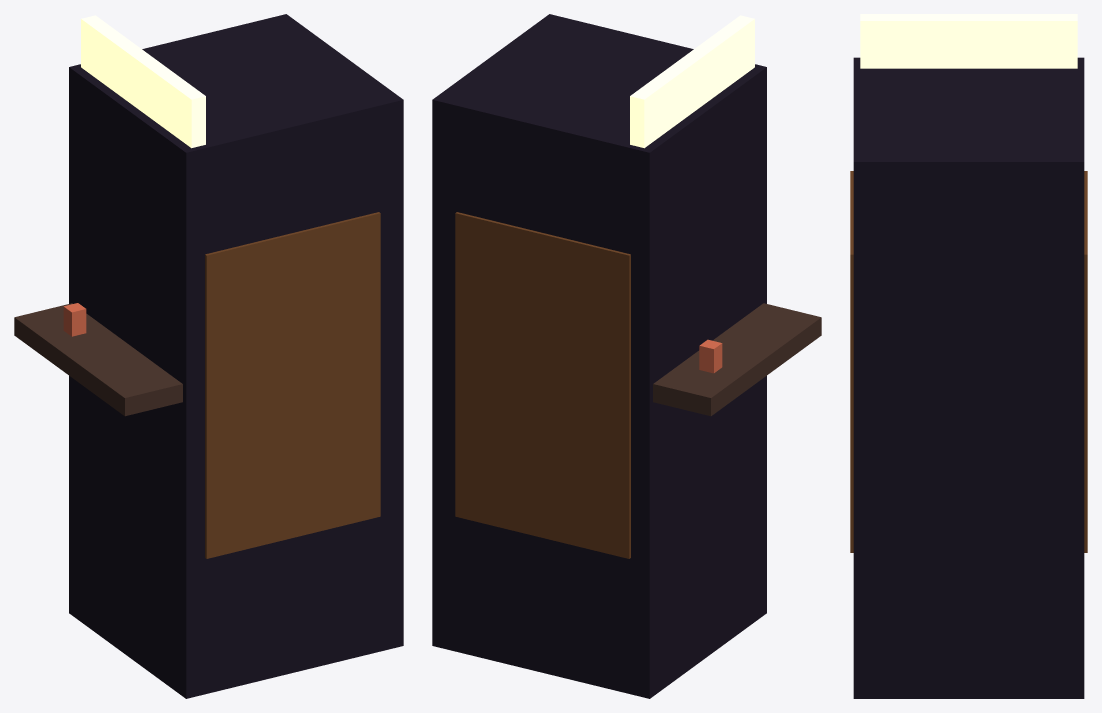
The model's file is wall_5.glb.
3 renders of one model, left to right at view 1: azimuth 30°, elevation 25°; view 2: azimuth 150°, elevation 25°; view 3: azimuth 270°, elevation 25°, orthographic.
Parts seen in each view (by area): view 1: Box1, Box2, Box5, Box4, Box6; view 2: Box1, Box2, Box5, Box4, Box6; view 3: Box1, Box4, Box2.
Part boxes in pixels (left/top/right/bottom): Box1: left=69, top=14, right=403, bottom=698; Box2: left=205, top=212, right=380, bottom=558; Box5: left=14, top=303, right=182, bottom=416; Box4: left=81, top=15, right=205, bottom=148; Box6: left=63, top=303, right=86, bottom=336; Box1: left=432, top=14, right=766, bottom=698; Box2: left=455, top=212, right=630, bottom=558; Box5: left=653, top=303, right=821, bottom=416; Box4: left=630, top=15, right=754, bottom=148; Box6: left=699, top=339, right=722, bottom=373; Box1: left=853, top=57, right=1084, bottom=698; Box4: left=860, top=14, right=1077, bottom=68; Box2: left=850, top=171, right=1087, bottom=552.
Size of the model in its own units: 0.95 by 1.96 by 0.72.
